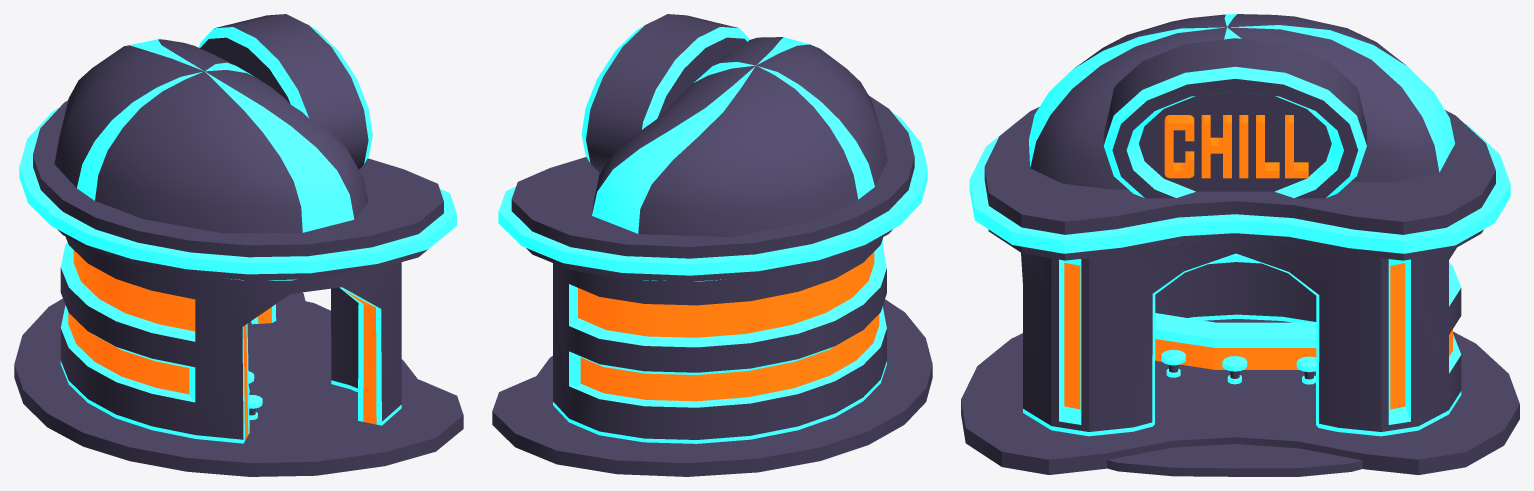
File: CAFE_House.fbx
The picture shows the model from 3 angles, left to right: view 1: azimuth 30°, elevation 25°; view 2: azimuth 150°, elevation 25°; view 3: azimuth 270°, elevation 25°; orthographic projection. The views are drawn at different scales.
Visible parts, largest first — view 1: House; view 2: House; view 3: House, CHILL.
Boxes of the visible parts, box(x1,y1,x2,y2) form: House: box(14, 14, 463, 476); House: box(492, 14, 932, 476); House: box(961, 14, 1519, 476); CHILL: box(1164, 115, 1308, 178).
Size of the model in its own units: 1524 by 1498 by 2029.
